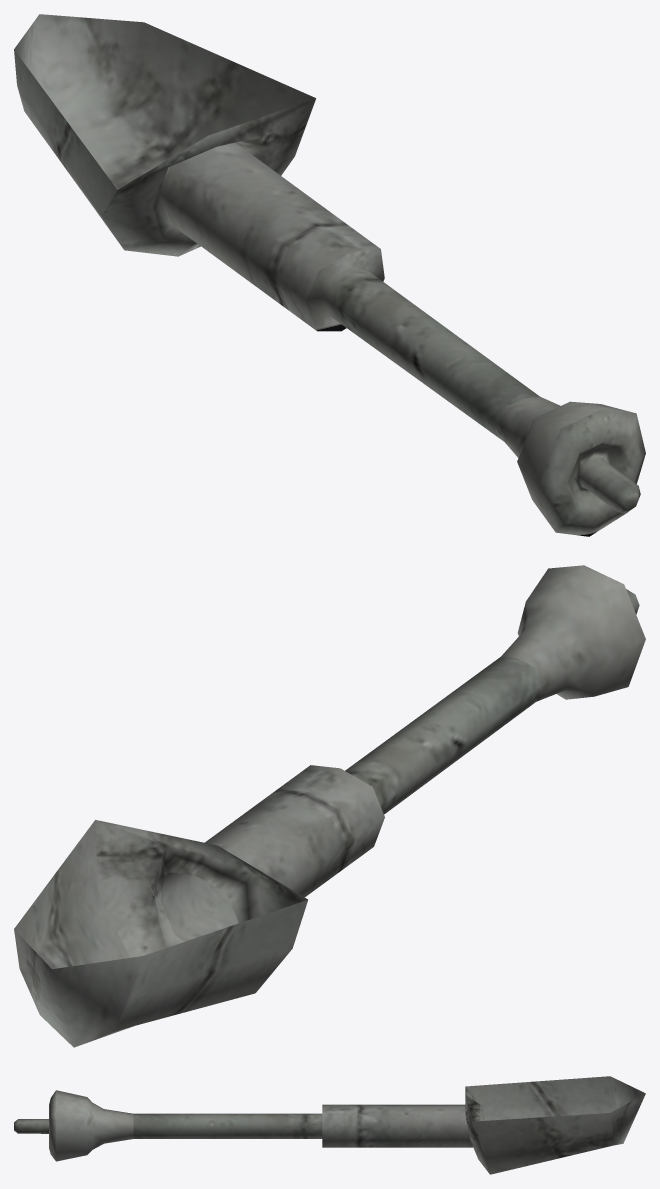
Rendered from Ship_Weapon_A_00.fbx.
3 views of the same model, one above another, from view 1: azimuth 30°, elevation 25°; view 2: azimuth 150°, elevation 25°; view 3: azimuth 270°, elevation 25° (orthographic). The views are drawn at different scales.
Parts seen in each view (by area): view 1: Ship_Weapon_A_00; view 2: Ship_Weapon_A_00; view 3: Ship_Weapon_A_00.
Part boxes in pixels (bbox=[...]): Ship_Weapon_A_00: bbox=[14, 14, 645, 536]; Ship_Weapon_A_00: bbox=[14, 565, 645, 1047]; Ship_Weapon_A_00: bbox=[14, 1076, 645, 1174].
Size of the model in its own units: 50.17 by 33.15 by 247.
